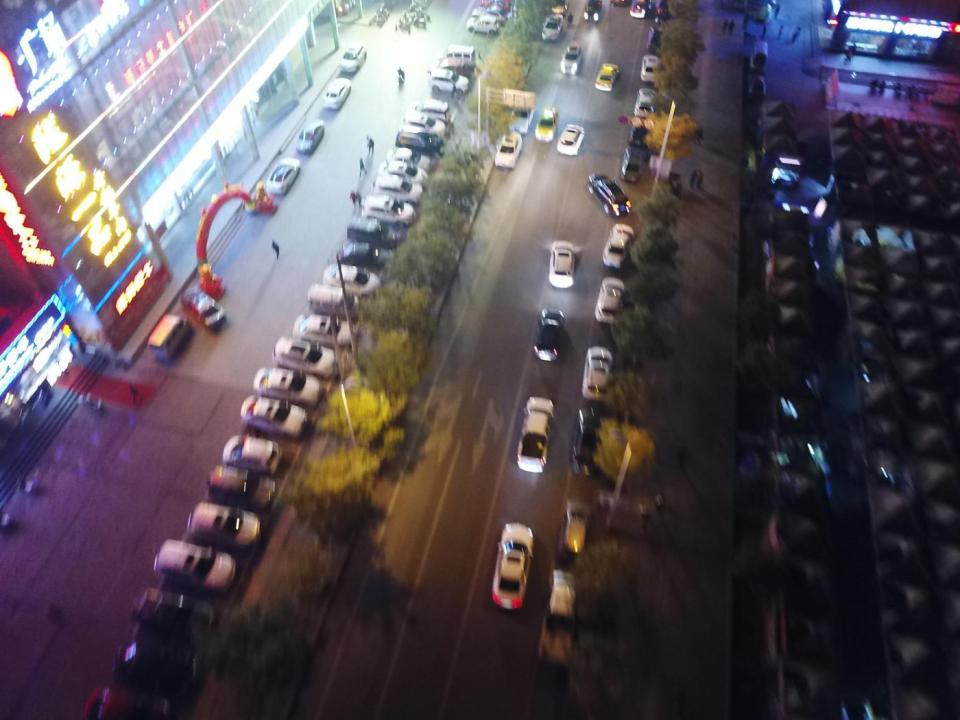car: (152, 539, 237, 597), (537, 568, 582, 666), (131, 590, 215, 638), (111, 642, 197, 685), (491, 522, 533, 610), (238, 394, 308, 440), (188, 503, 261, 547), (83, 685, 170, 720), (206, 465, 276, 507), (516, 397, 553, 472), (253, 366, 322, 406), (272, 337, 338, 378), (221, 435, 282, 476), (571, 407, 607, 475), (558, 498, 592, 568), (294, 315, 360, 348), (180, 285, 226, 330), (581, 347, 616, 400), (588, 173, 630, 215), (532, 308, 564, 361), (362, 196, 415, 226), (373, 175, 426, 205), (379, 160, 429, 190), (337, 241, 394, 267), (346, 219, 398, 247), (595, 277, 625, 325), (603, 224, 633, 268), (266, 158, 300, 195), (396, 131, 445, 156), (549, 240, 574, 289), (493, 130, 522, 169), (403, 112, 445, 138), (408, 98, 450, 123), (386, 148, 431, 171), (428, 69, 468, 94), (297, 119, 324, 156), (556, 124, 586, 156), (621, 147, 646, 184), (509, 98, 534, 133), (324, 78, 351, 110), (534, 107, 558, 143), (340, 40, 366, 72), (471, 6, 510, 25), (593, 63, 619, 91), (561, 42, 583, 74), (633, 88, 657, 117), (434, 58, 468, 78), (641, 54, 663, 82), (648, 27, 670, 54), (541, 14, 562, 42), (630, 119, 649, 149), (467, 17, 500, 34), (740, 4, 772, 21), (747, 74, 766, 95), (654, 1, 674, 20), (482, 1, 514, 11), (630, 1, 648, 17), (550, 0, 568, 14)
van: (148, 314, 189, 362), (308, 284, 364, 316), (325, 265, 381, 295), (440, 45, 475, 67), (750, 40, 768, 70), (584, 0, 602, 22)
